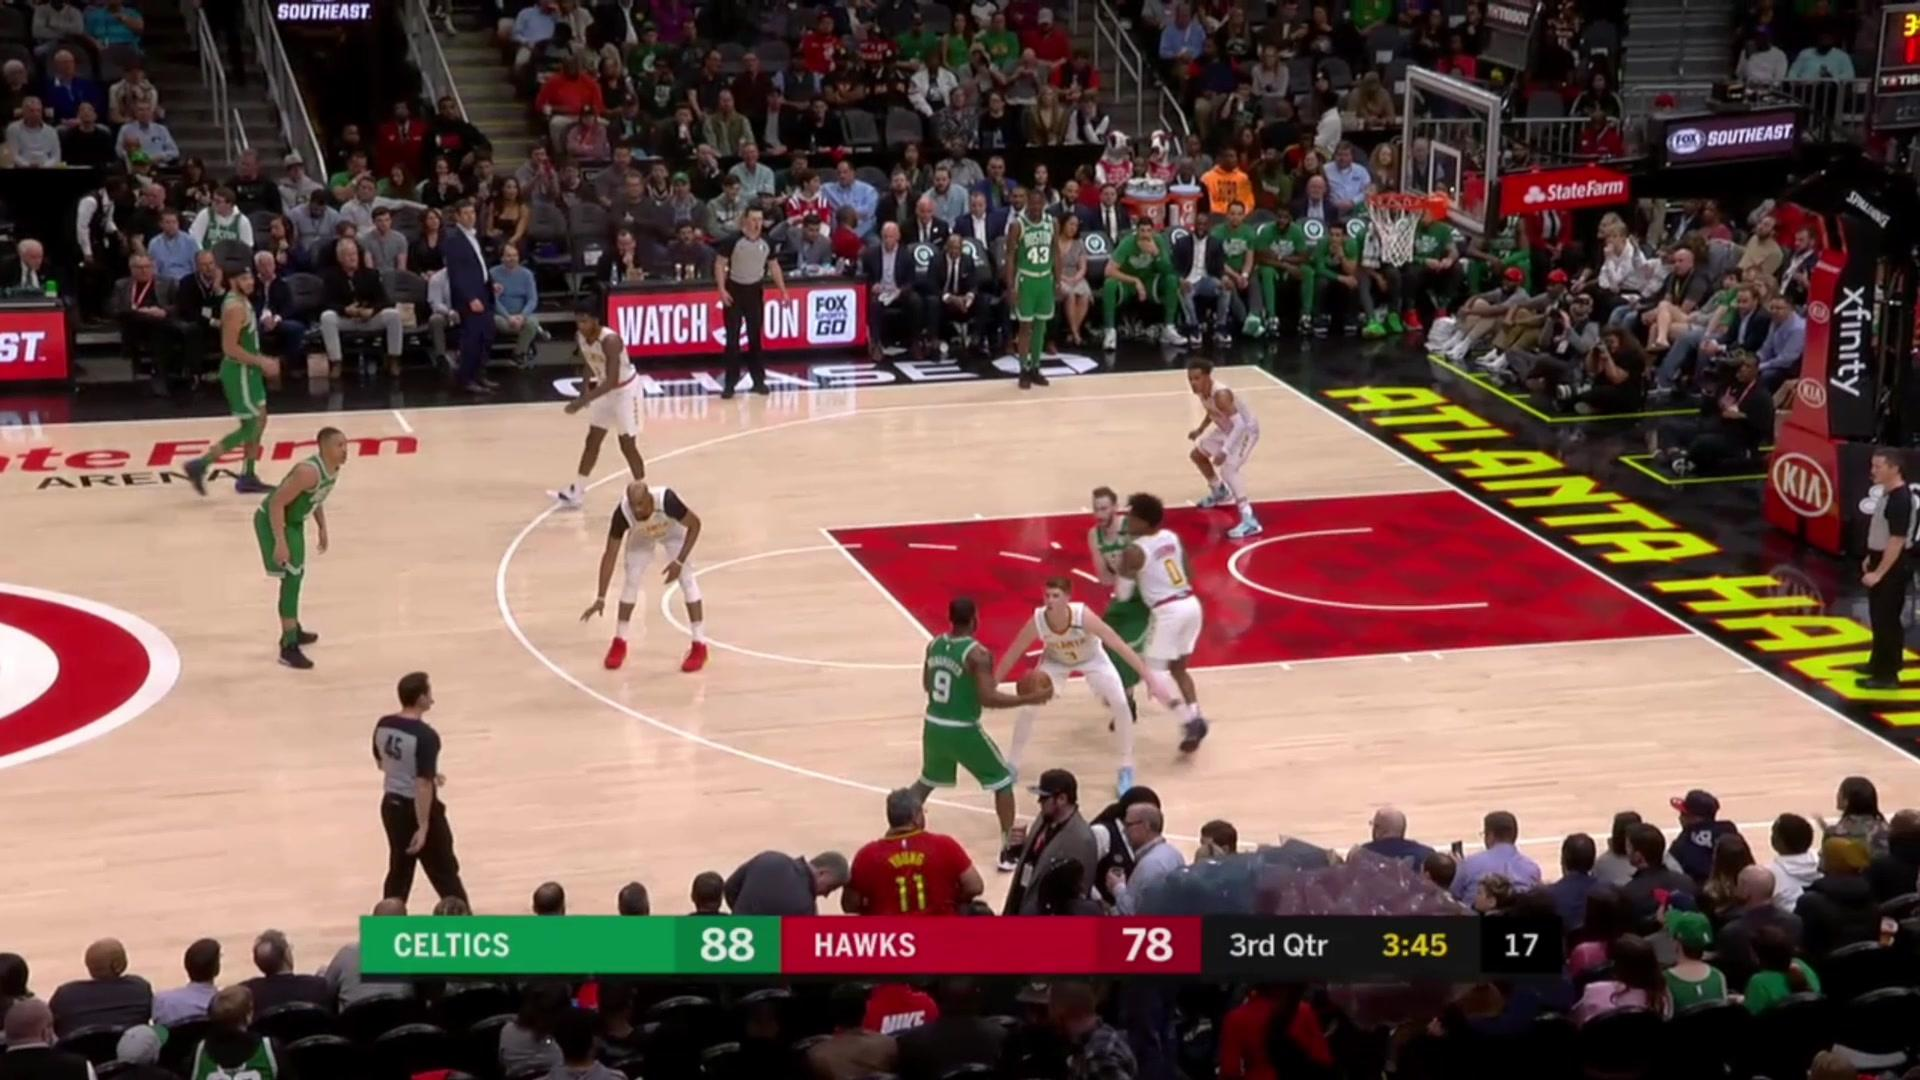no_foul: (1091, 475, 1224, 702)
